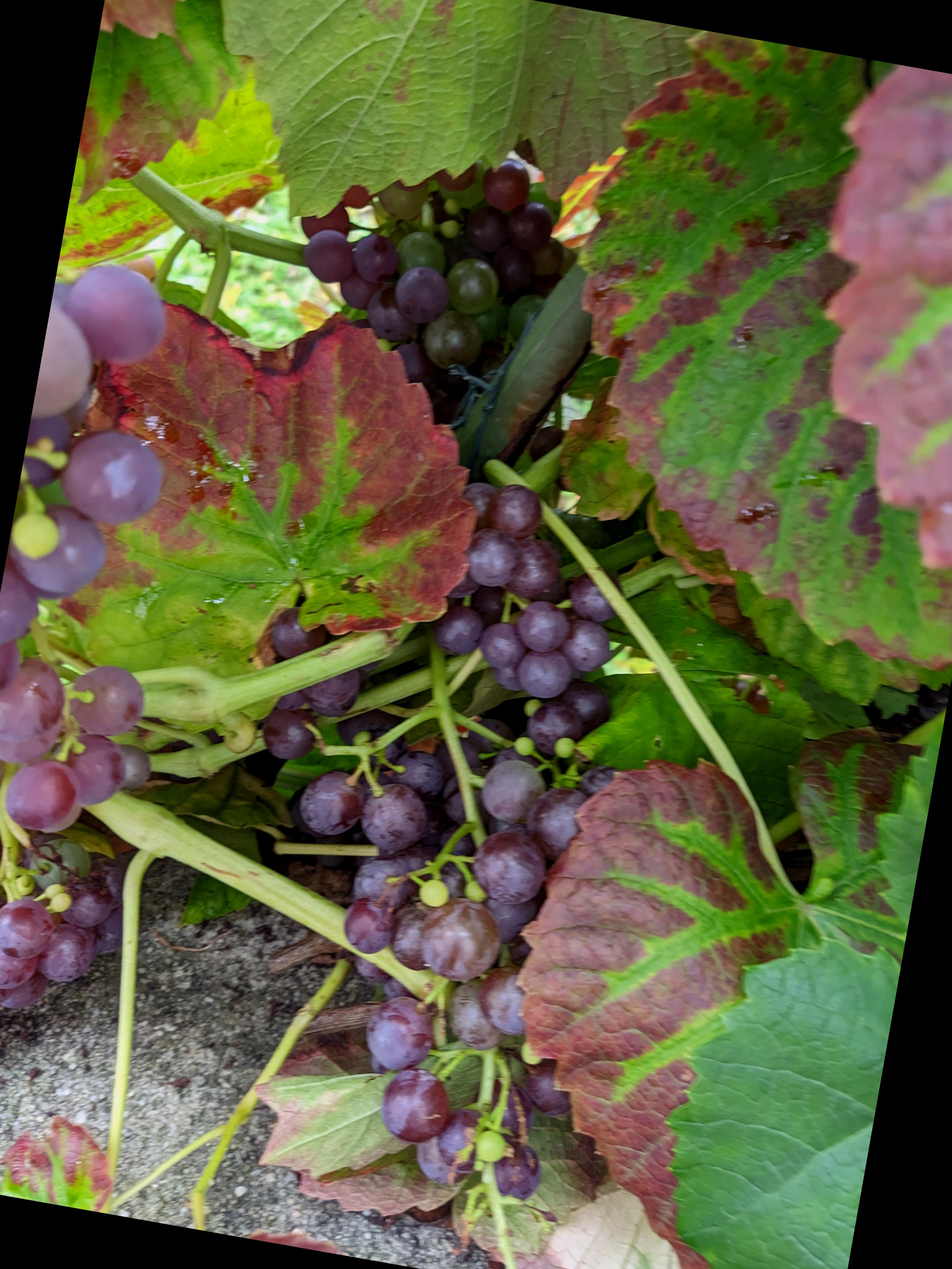Grape Unripe: (290, 377, 783, 1139), (76, 187, 337, 777), (384, 52, 703, 358), (33, 757, 236, 996)
